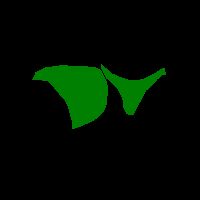mutande: (32, 65, 108, 129), (100, 63, 166, 115)
